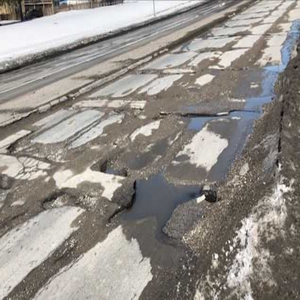pothole: (108, 171, 214, 241), (40, 189, 88, 214)
